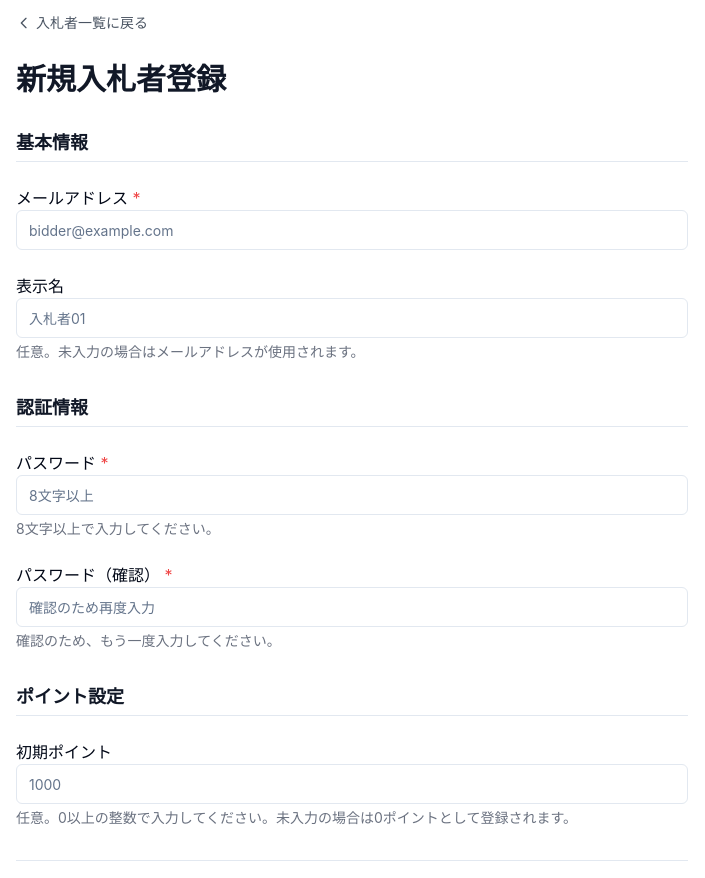
Test case: BidderRegisterView › displays validation error when password is too short
The image size is (705, 878).
Type "short" into the password field labelled "パスワード *".
click(352, 495); type("short")  # box x1=16 y1=475 x2=688 y2=515
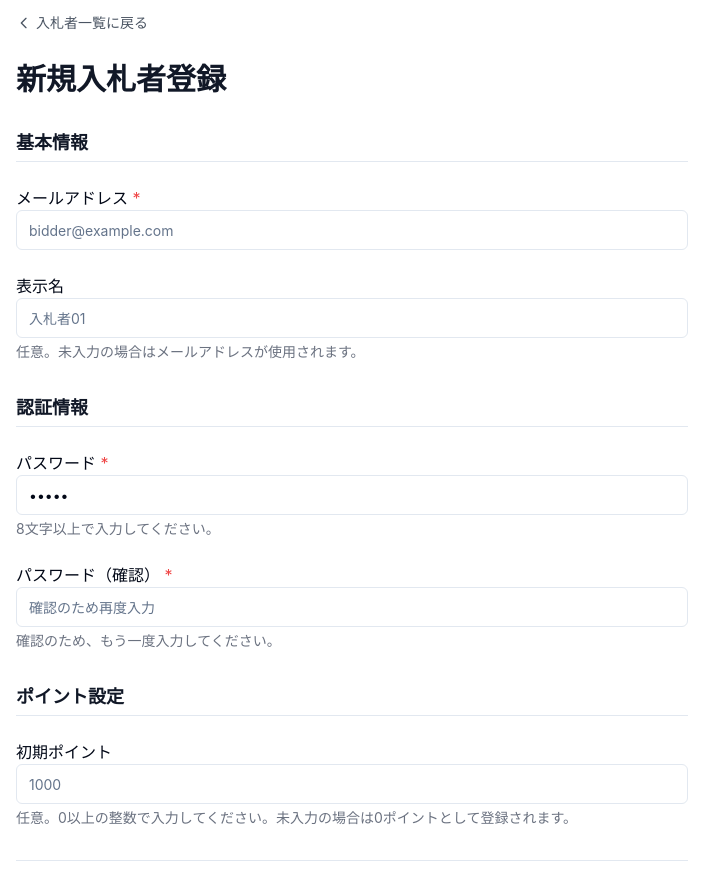
Leave the password field labelled "パスワード *", box x1=16 y1=475 x2=688 y2=515
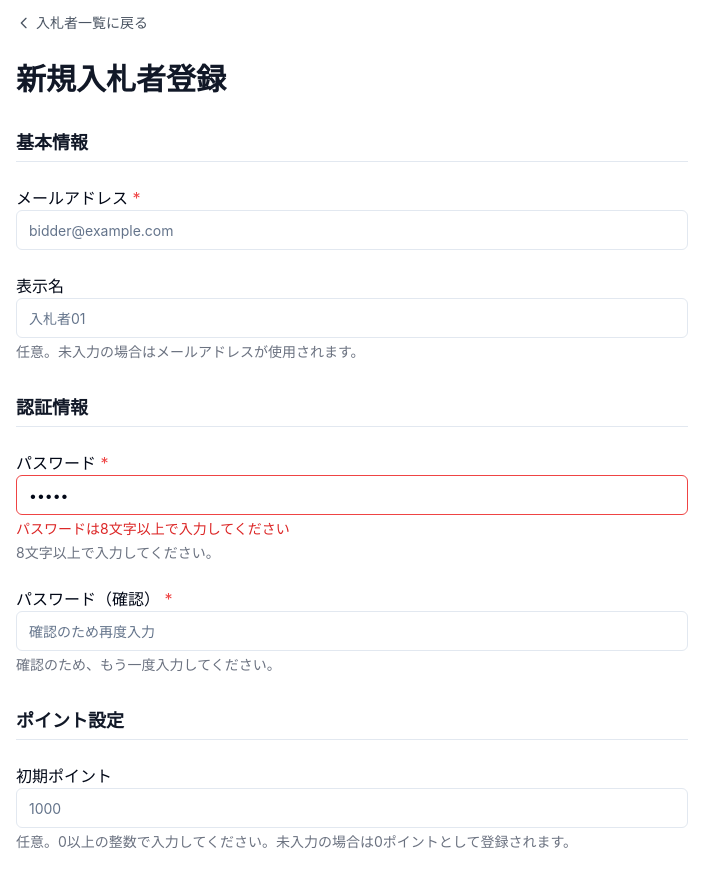
Result: the text "パスワードは8文字以上で入力してください" is shown at x1=16 y1=520 x2=290 y2=537
